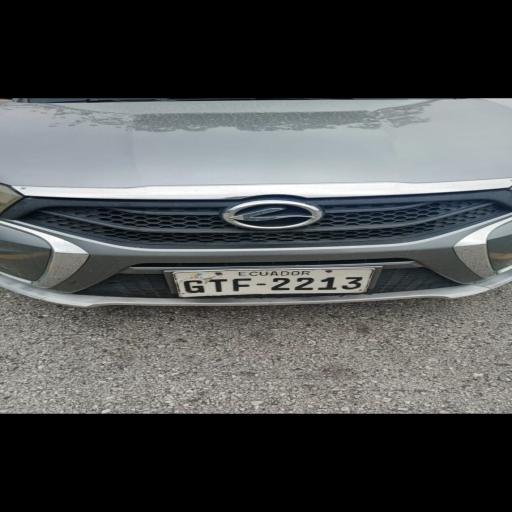license_plate: (165, 267, 375, 297)
